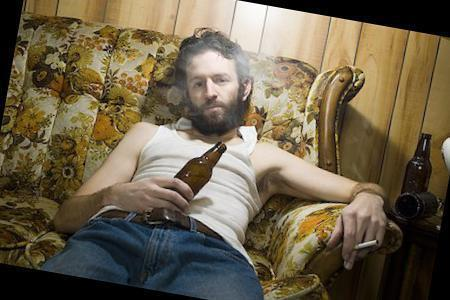Drunk: (185, 53, 238, 125)
